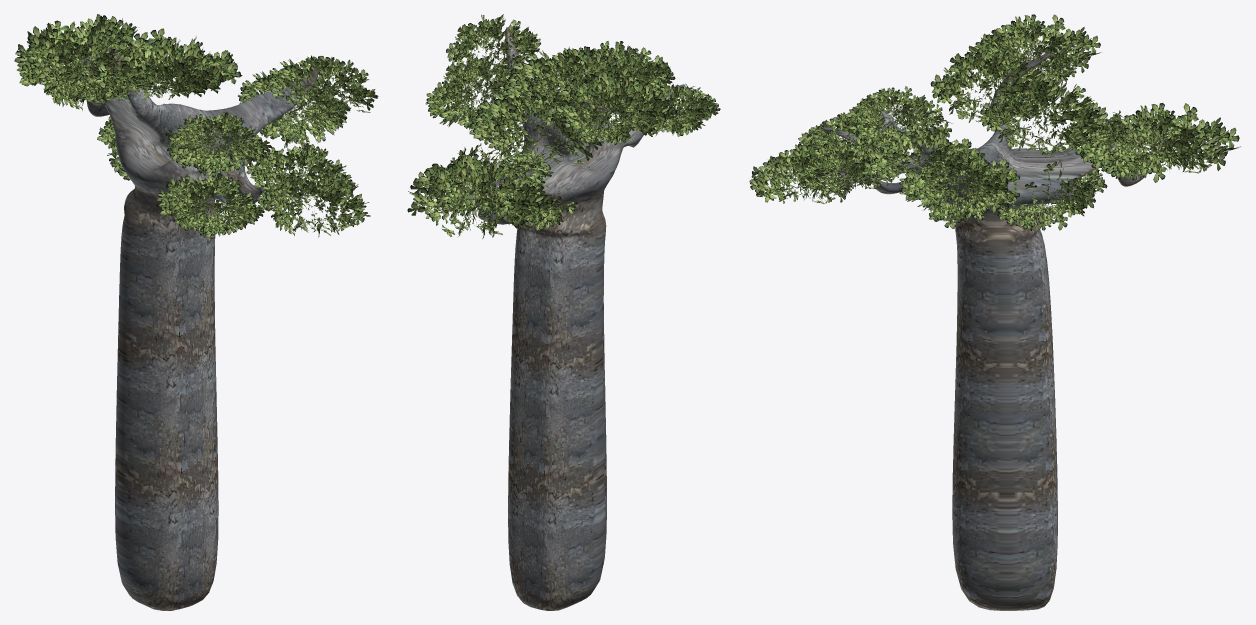
Rendered from baobab.glb.
3 renders of one model, left to right at view 1: azimuth 30°, elevation 25°; view 2: azimuth 150°, elevation 25°; view 3: azimuth 270°, elevation 25°, orthographic. The views are drawn at different scales.
Parts seen in each view (by area): view 1: Cube, baobab leaves.007, baobab leaves.013, baobab leaves.001, baobab leaves.009, baobab leaves.003, baobab leaves.002, baobab leaves.006, baobab leaves.004, baobab leaves.005, baobab leaves.012, baobab leaves.010 (+3 smaller); view 2: Cube, baobab leaves.010, baobab leaves.007, baobab leaves.017, baobab leaves.013, baobab leaves.011, baobab leaves.009, baobab leaves.012, baobab leaves.003, baobab leaves.016, baobab leaves.008, baobab leaves.004 (+5 smaller); view 3: Cube, baobab leaves.010, baobab leaves.013, baobab leaves.017, baobab leaves.007, baobab leaves.011, baobab leaves.009, baobab leaves.001, baobab leaves.012, baobab leaves.002, baobab leaves.016, baobab leaves.004 (+4 smaller).
Part boxes in pixels (x1,y1,x2,y2): Cube: [79, 36, 317, 610]; baobab leaves.007: [17, 25, 150, 108]; baobab leaves.013: [84, 28, 242, 100]; baobab leaves.001: [256, 169, 370, 237]; baobab leaves.009: [265, 55, 378, 120]; baobab leaves.003: [156, 172, 259, 234]; baobab leaves.002: [246, 142, 351, 202]; baobab leaves.006: [165, 125, 271, 176]; baobab leaves.004: [177, 112, 259, 159]; baobab leaves.005: [171, 191, 264, 238]; baobab leaves.012: [238, 68, 350, 132]; baobab leaves.010: [14, 14, 153, 110]; Cube: [466, 27, 684, 610]; baobab leaves.010: [407, 154, 552, 238]; baobab leaves.007: [551, 71, 676, 143]; baobab leaves.017: [469, 88, 603, 170]; baobab leaves.013: [503, 47, 633, 131]; baobab leaves.011: [425, 143, 553, 218]; baobab leaves.009: [446, 14, 540, 76]; baobab leaves.012: [434, 54, 511, 115]; baobab leaves.003: [622, 82, 720, 135]; baobab leaves.016: [425, 74, 520, 129]; baobab leaves.008: [571, 101, 643, 145]; baobab leaves.004: [584, 50, 662, 91]; Cube: [817, 51, 1180, 610]; baobab leaves.010: [1088, 103, 1240, 177]; baobab leaves.013: [930, 44, 1058, 126]; baobab leaves.017: [980, 78, 1107, 154]; baobab leaves.007: [967, 14, 1100, 78]; baobab leaves.011: [1067, 110, 1203, 182]; baobab leaves.009: [861, 123, 982, 179]; baobab leaves.001: [749, 143, 866, 203]; baobab leaves.012: [899, 143, 1019, 200]; baobab leaves.002: [793, 137, 892, 195]; baobab leaves.016: [899, 173, 1019, 228]; baobab leaves.004: [852, 86, 934, 130].
Size of the model in its own units: 11.27 by 22.15 by 17.92.
2 materials, 2 textured.
